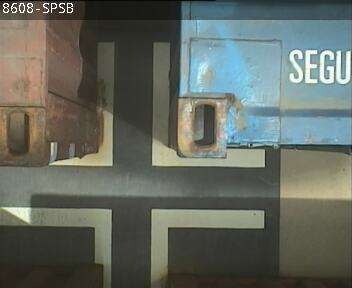groundmarker_1: (49, 41, 263, 167), (1, 207, 264, 288)
